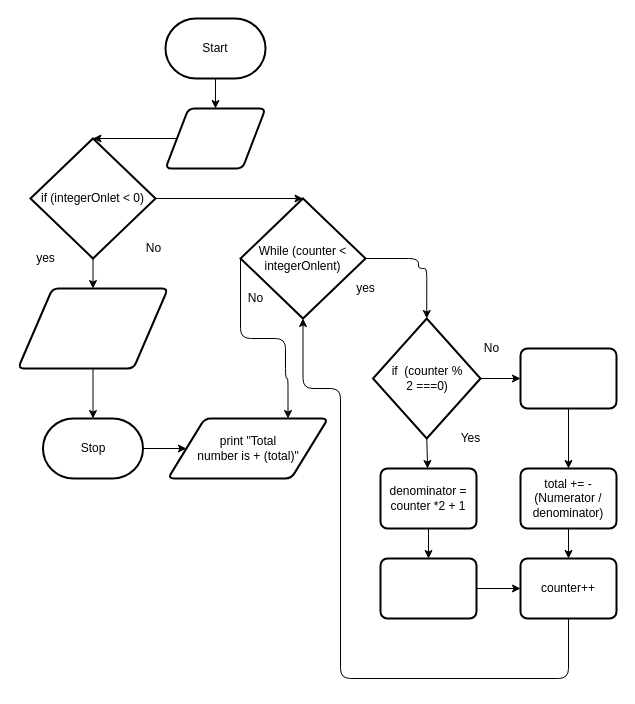
Some shapes in this 635 by 704 pixel diagram are drawn without their labels. Each missing label, with the centre of its shape:
denominator = counter * 2 + 1: the point at 568,378
Input positive integer: the point at 215,138
print "input positive number": the point at 92,328
total += Numerator/ denominator: the point at 428,588
